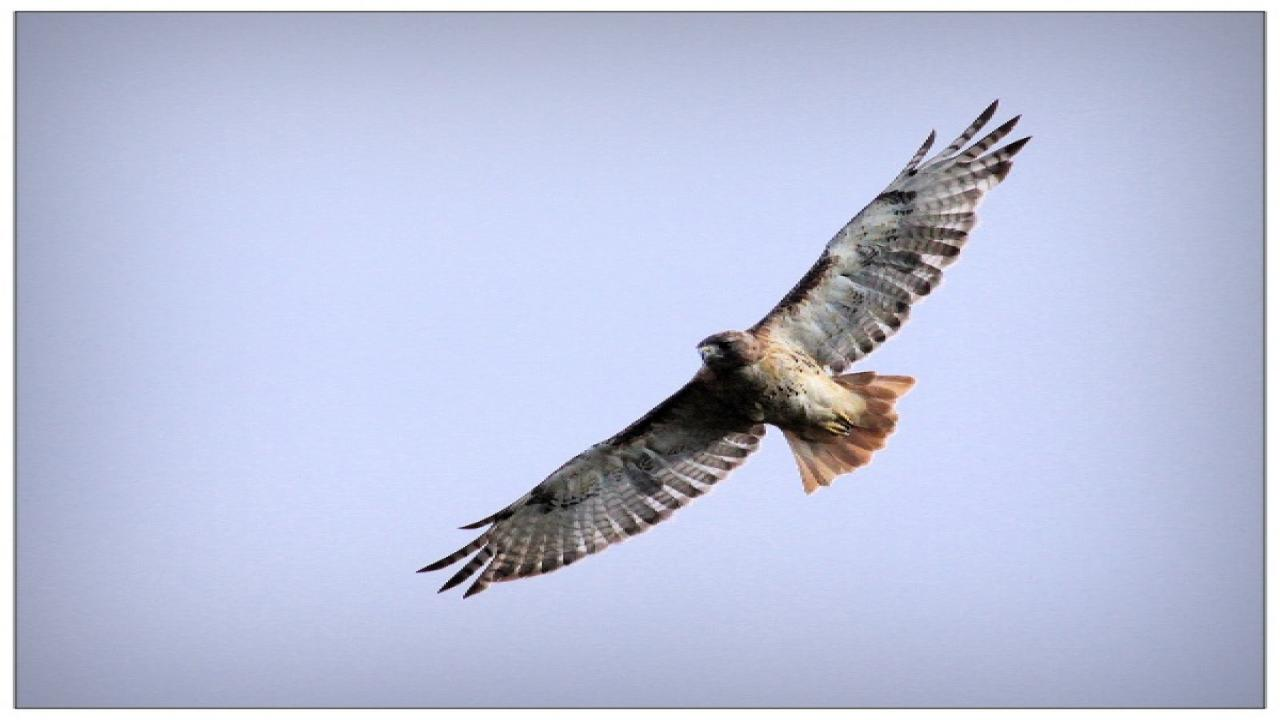Bird: (409, 95, 1043, 605)
